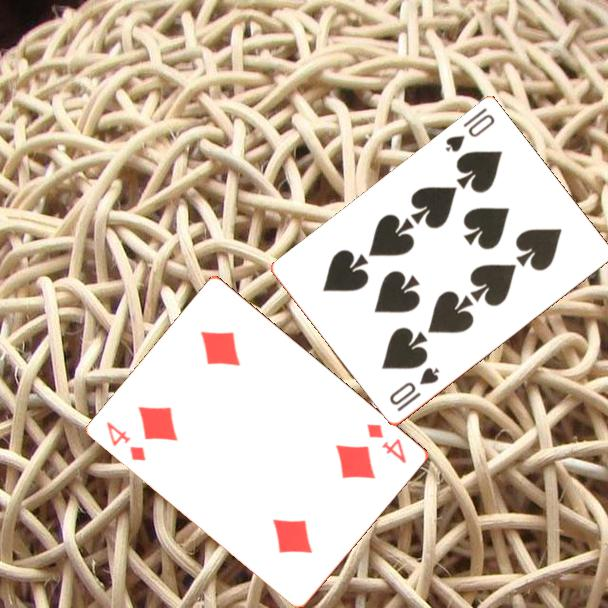d04: (363, 420, 410, 466), (103, 418, 150, 464)
s10: (386, 364, 442, 415), (442, 105, 498, 155)
